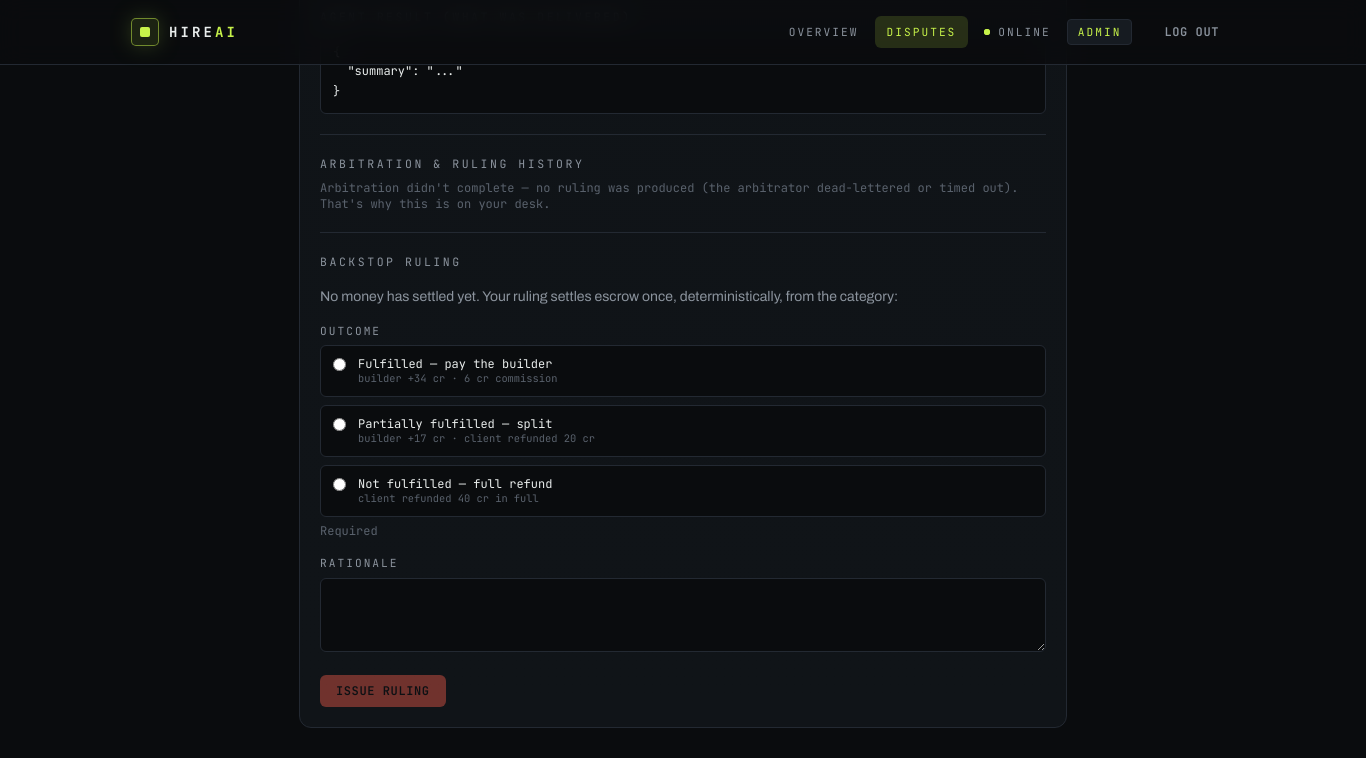
admin dispute detail › shows evidence and submits a ruling
(page scrolled)
Expected: the text "client refunded 40 cr in full" is shown, [358,492,552,506]
Choose NOT_FULFILLED + rationale, submit → the detail becomes RESOLVED.
Click the radio button labelled "Not fulfilled — full refund client refunded 40 cr in full" at (340, 485), box [333,478,346,491]
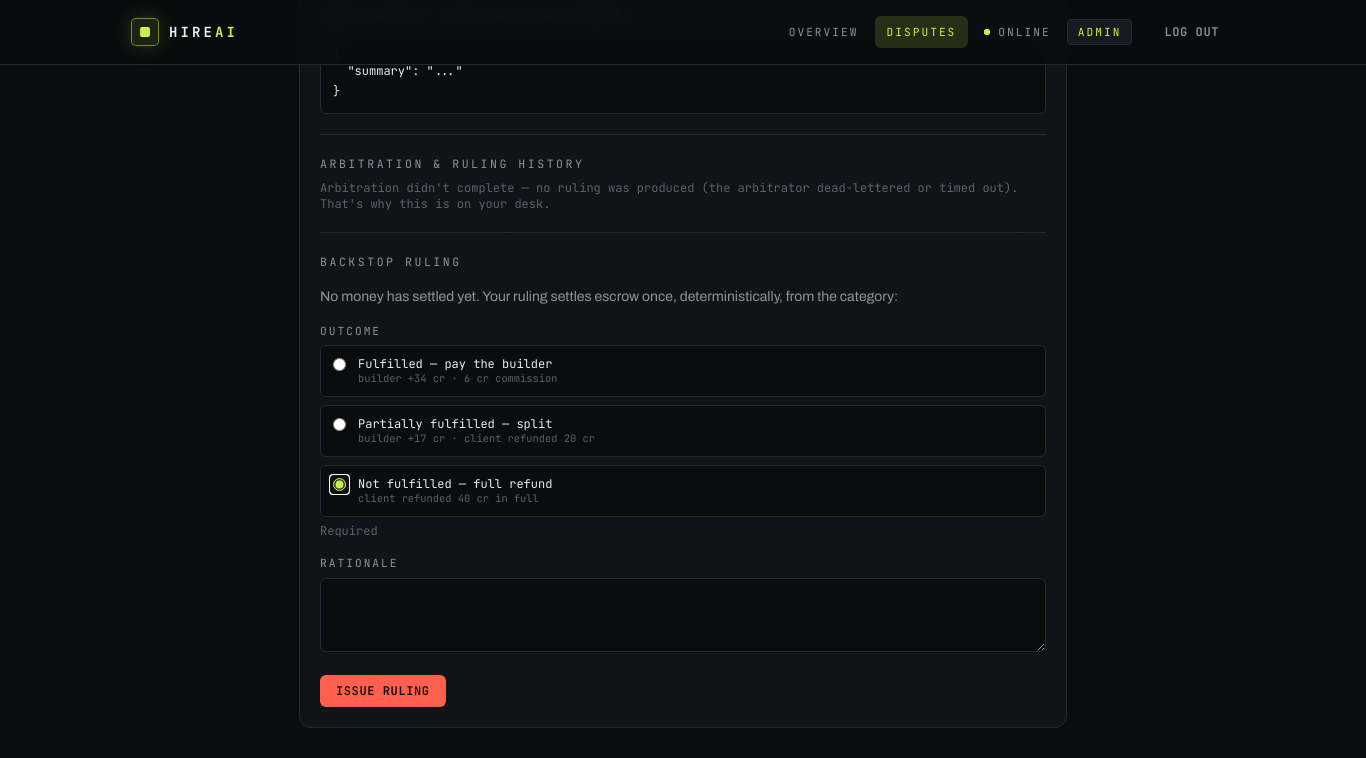
Type "backstop refund" into the text box labelled "Rationale" at (683, 615), box [320,578,1046,652]
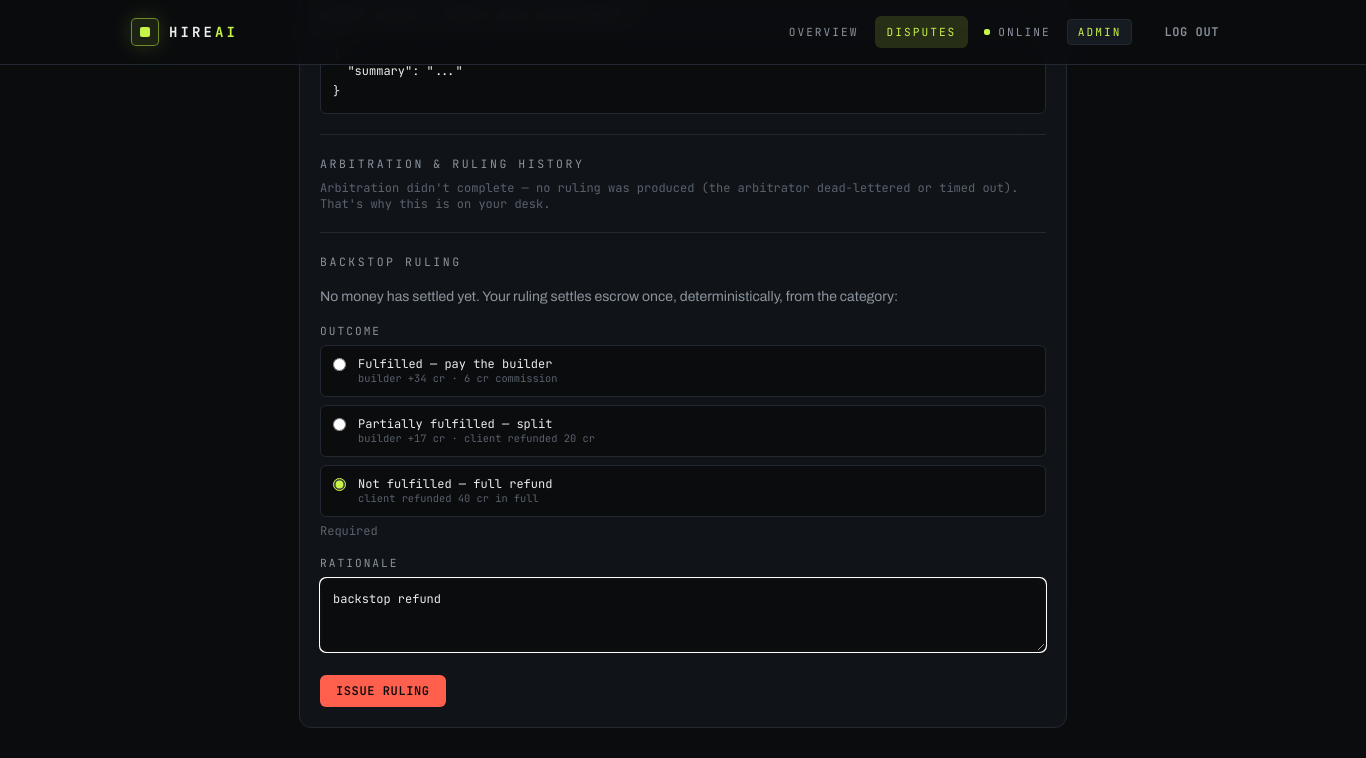
Click the button "Issue ruling" at (383, 691), box [320,675,446,707]
(page scrolled)
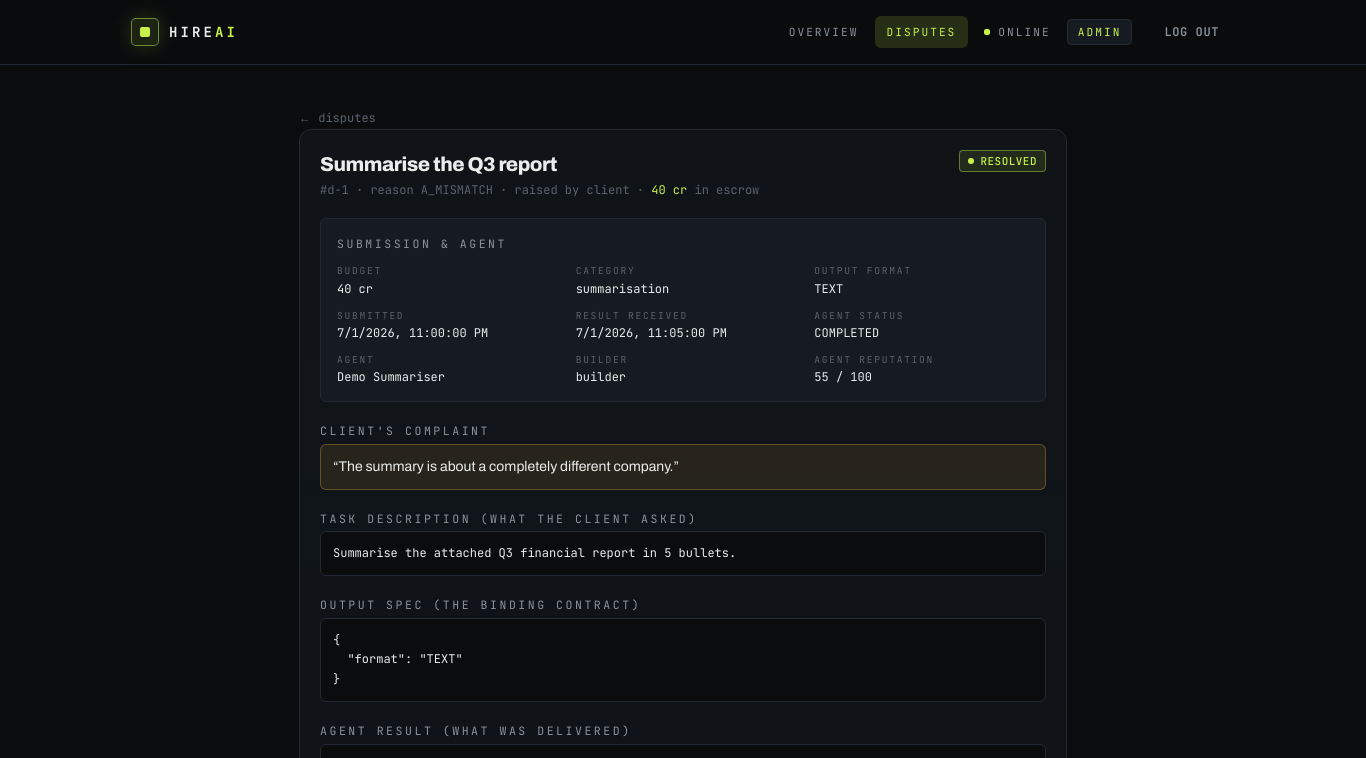
Result: the text "RESOLVED" is shown at [959,150,1046,172]
